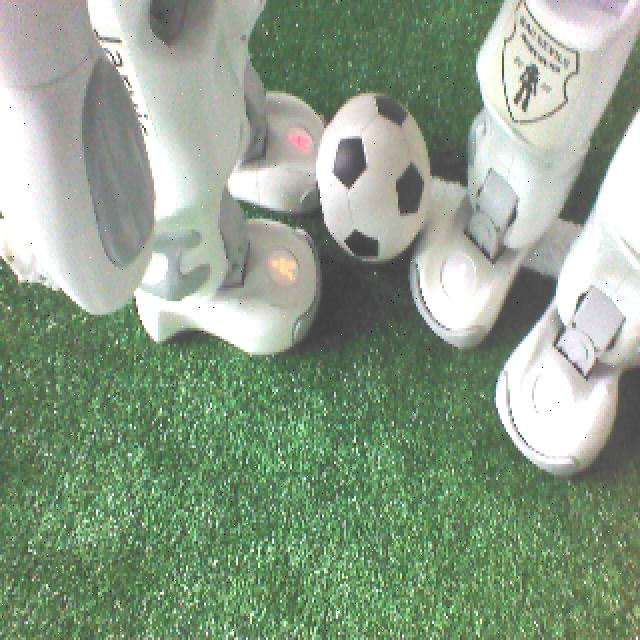ball: (312, 88, 444, 275)
